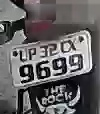2: (48, 42, 61, 56)
3: (40, 45, 49, 59)
6: (36, 60, 52, 80)
9: (18, 62, 35, 85), (52, 57, 68, 78), (68, 53, 85, 72)
C: (60, 40, 69, 54)
P: (29, 46, 37, 62)
U: (18, 48, 29, 63)
X: (68, 37, 78, 51)
